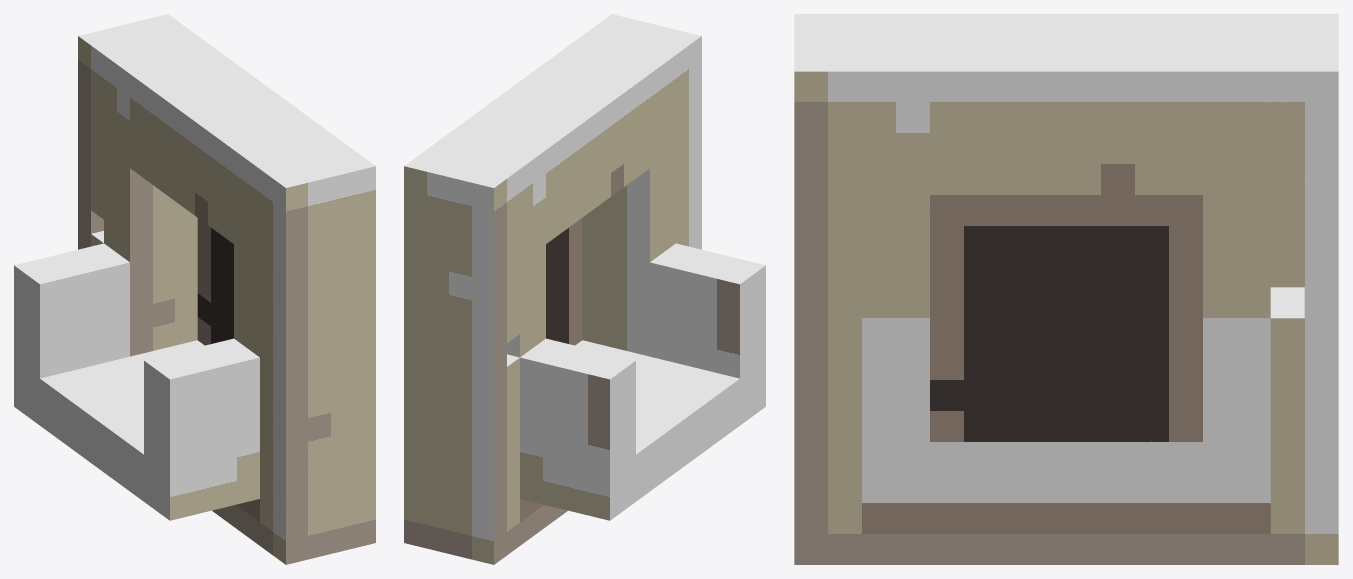
Rendered from white_watermouthao.fezao.glb.
3 renders of one model, left to right at view 1: azimuth 30°, elevation 25°; view 2: azimuth 150°, elevation 25°; view 3: azimuth 270°, elevation 25°, orthographic. The views are drawn at different scales.
Parts seen in each view (by area): view 1: WHITE_WATERMOUTHAO; view 2: WHITE_WATERMOUTHAO; view 3: WHITE_WATERMOUTHAO.
Part boxes in pixels (x1,y1,x2,y2): WHITE_WATERMOUTHAO: (14,14,375,564); WHITE_WATERMOUTHAO: (404,14,765,564); WHITE_WATERMOUTHAO: (794,14,1338,564).
Size of the model in its own units: 0.5 by 1 by 1.
1 material, 1 textured.
